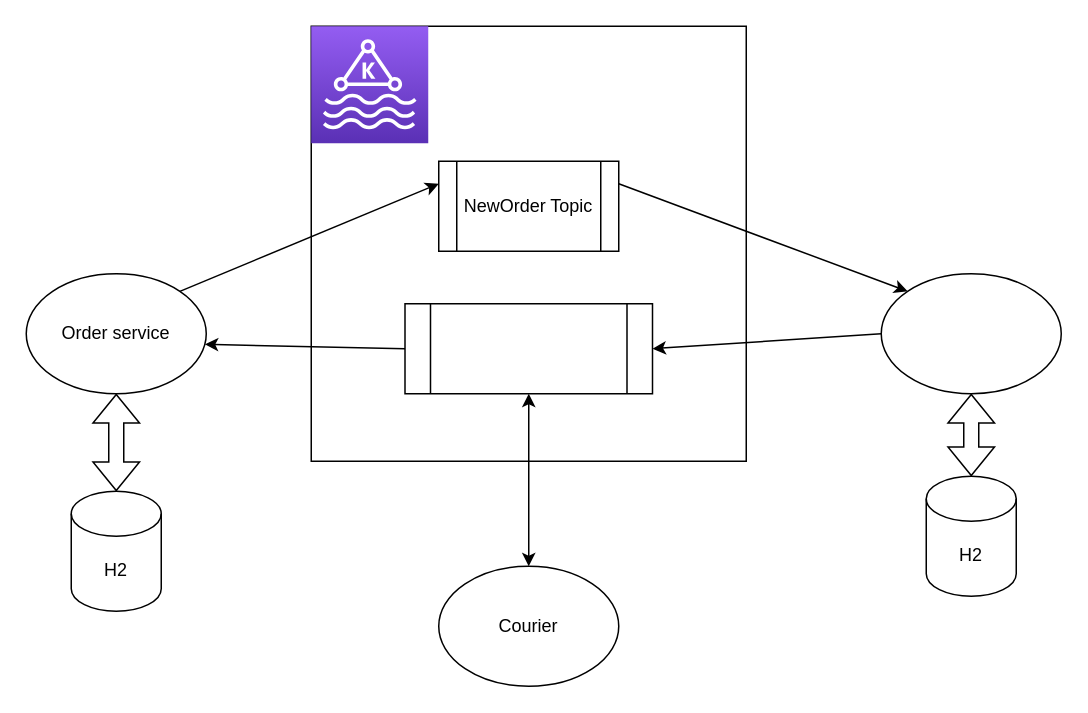
Some shapes in this 1088 by 713 pixel diagram are drawn without their labels. Each missing label, with the box of its shape:
OrderStatusChanged Topic: (404, 302, 652, 394)
Pizzeria: (880, 272, 1061, 394)
